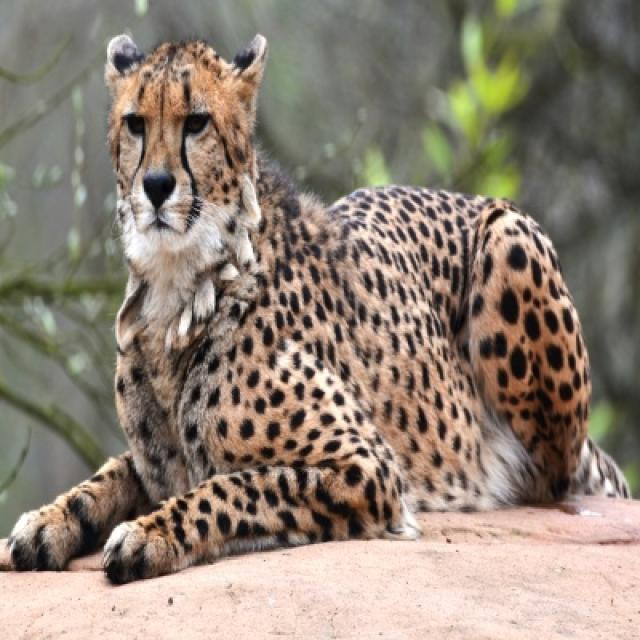Cheetah: (0, 34, 629, 587)
